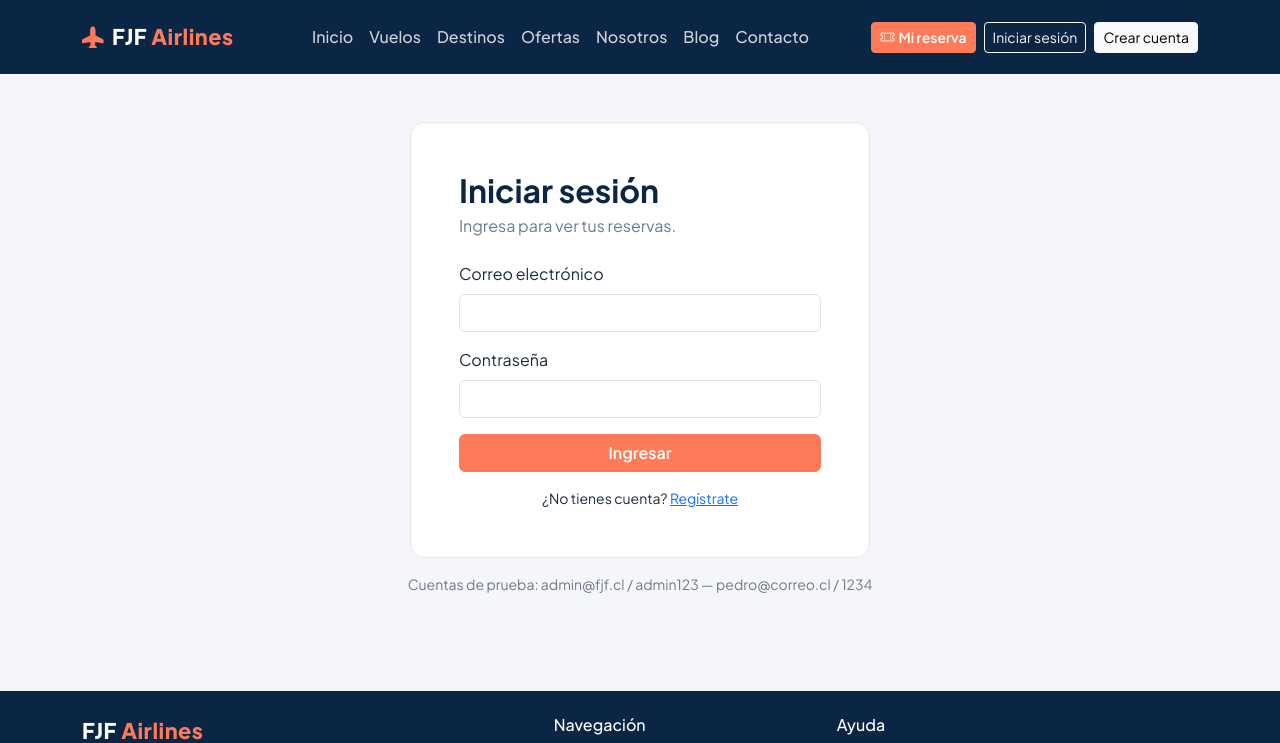
Test case: Inicio de sesión › un pasajero entra y vuelve a la portada
Type "pedro@correo.cl" into the field labelled "Correo electrónico" at (640, 313), box x1=459 y1=294 x2=821 y2=332
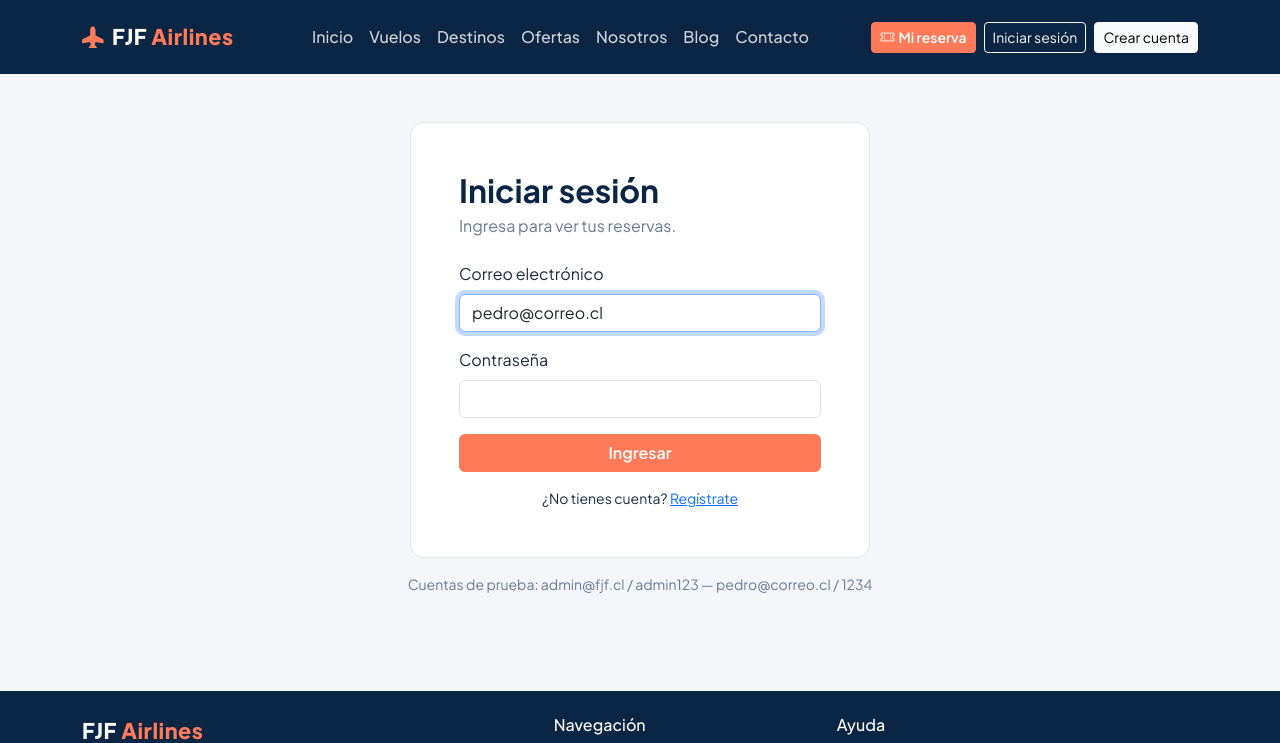
Type "1234" into the password field labelled "Contraseña" at (640, 399), box x1=459 y1=380 x2=821 y2=418
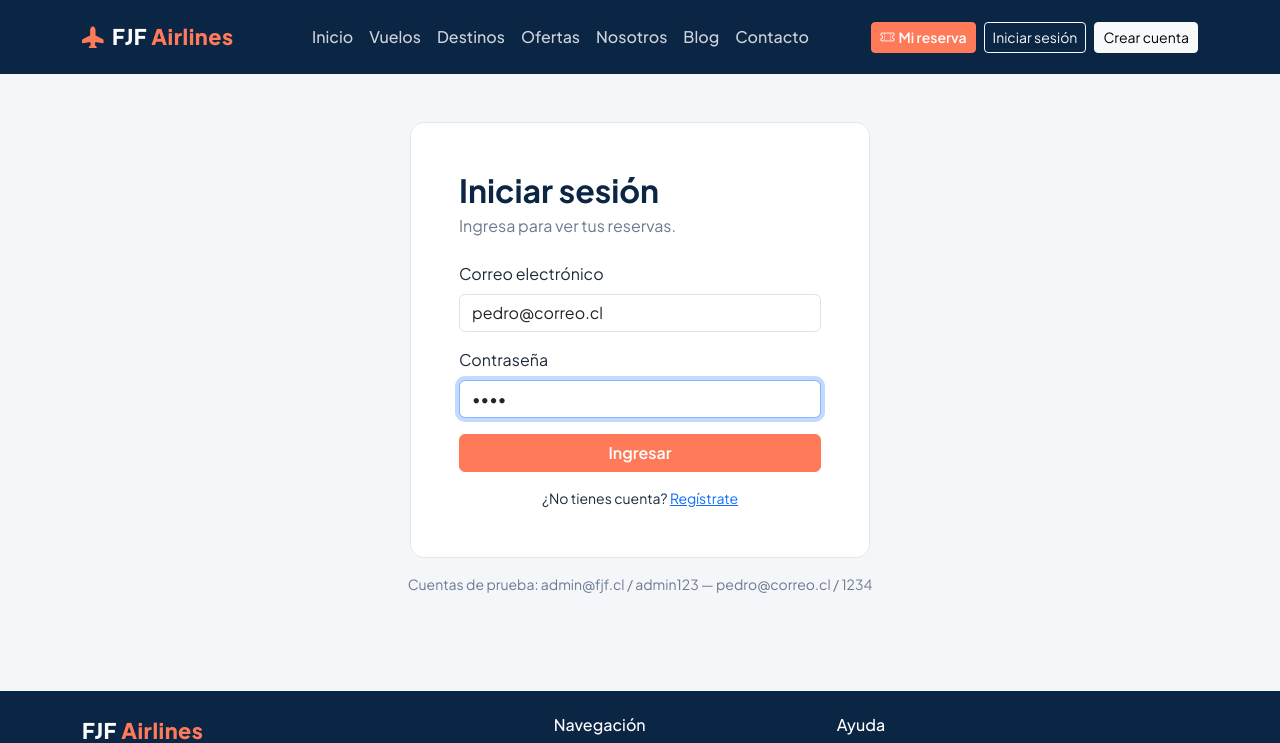
Click the button "Ingresar" at (640, 453), box x1=459 y1=434 x2=821 y2=472
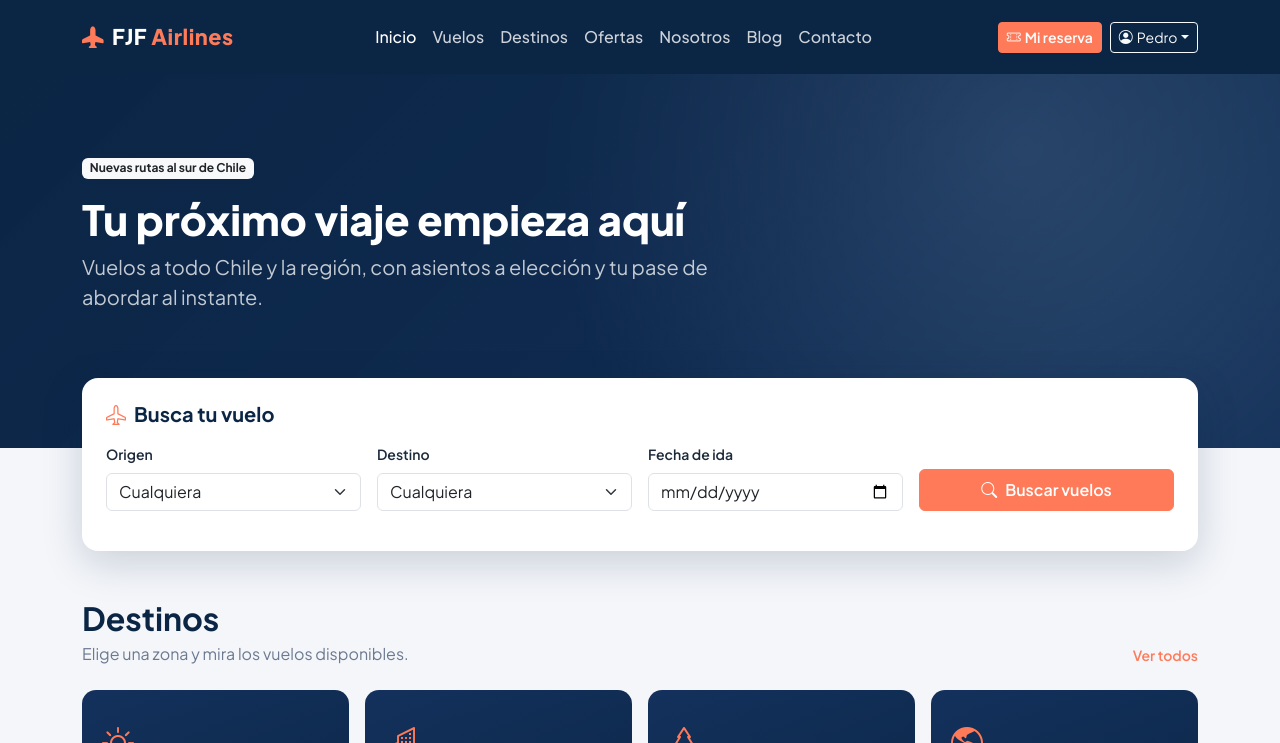
Now the heading "Tu próximo viaje empieza aquí" is shown, box x1=82 y1=195 x2=723 y2=244
